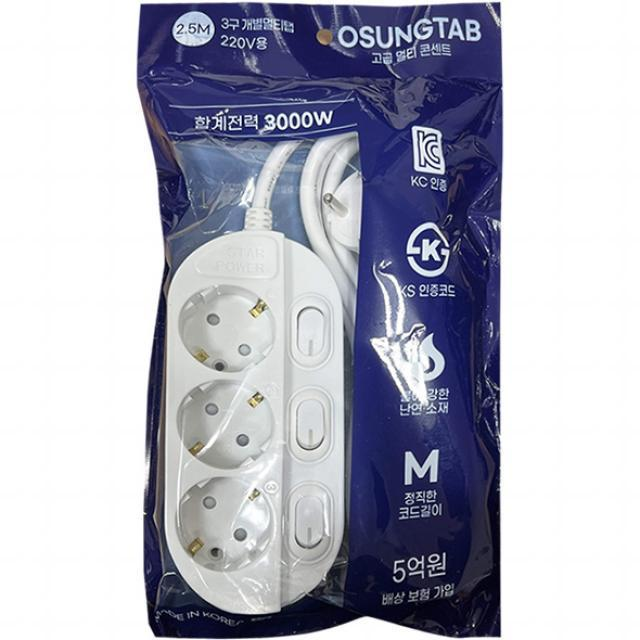typeb: (149, 222, 357, 640)
